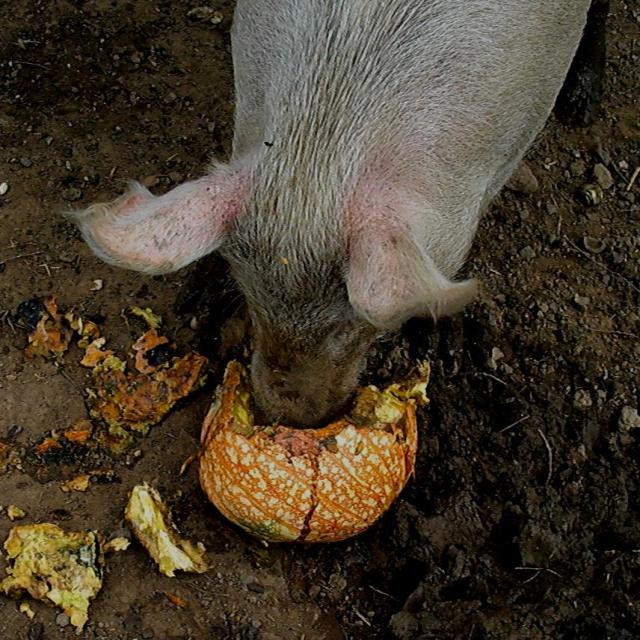pig: (75, 1, 589, 427)
